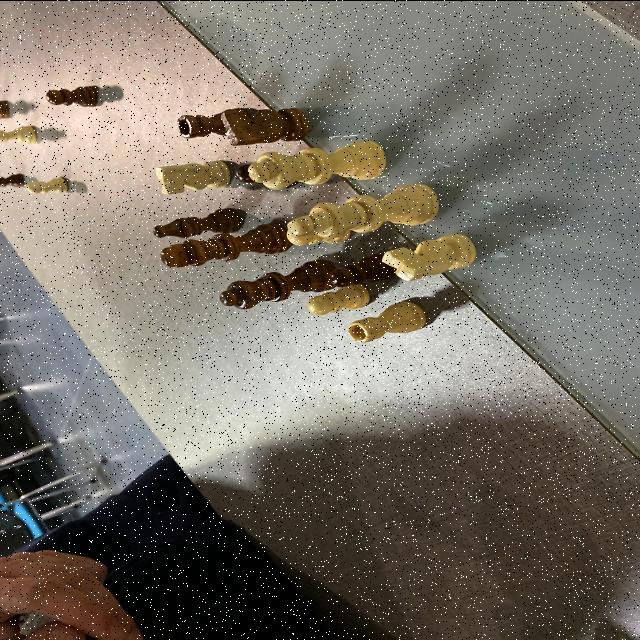Black-Bishop: (153, 206, 241, 238)
Black-King: (160, 220, 291, 266)
Black-Knight: (220, 106, 308, 146)
Black-Pawn: (329, 252, 394, 285), (45, 85, 97, 106), (236, 162, 250, 184)
Black-Queen: (219, 258, 336, 308)
Black-Rook: (175, 111, 225, 138)
White-King: (286, 182, 441, 240)
White-Knight: (381, 233, 477, 282), (154, 158, 232, 194)
White-Pawn: (306, 282, 372, 314), (285, 224, 351, 244), (27, 174, 70, 193)
White-Queen: (247, 138, 387, 190)
White-Rook: (348, 299, 428, 341)
